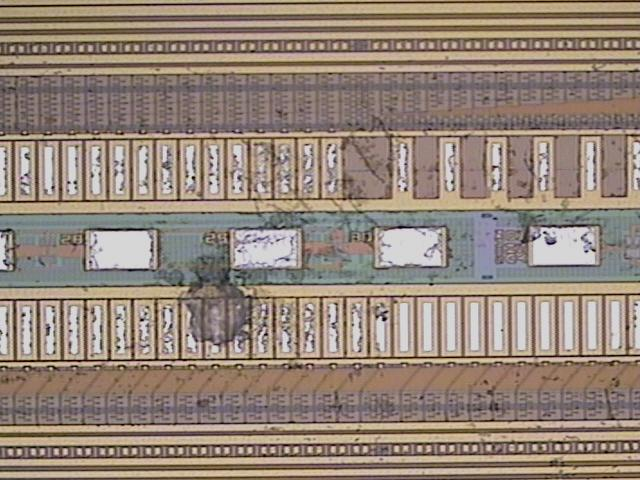PO CONTAMINATION: (1, 48, 640, 480)
